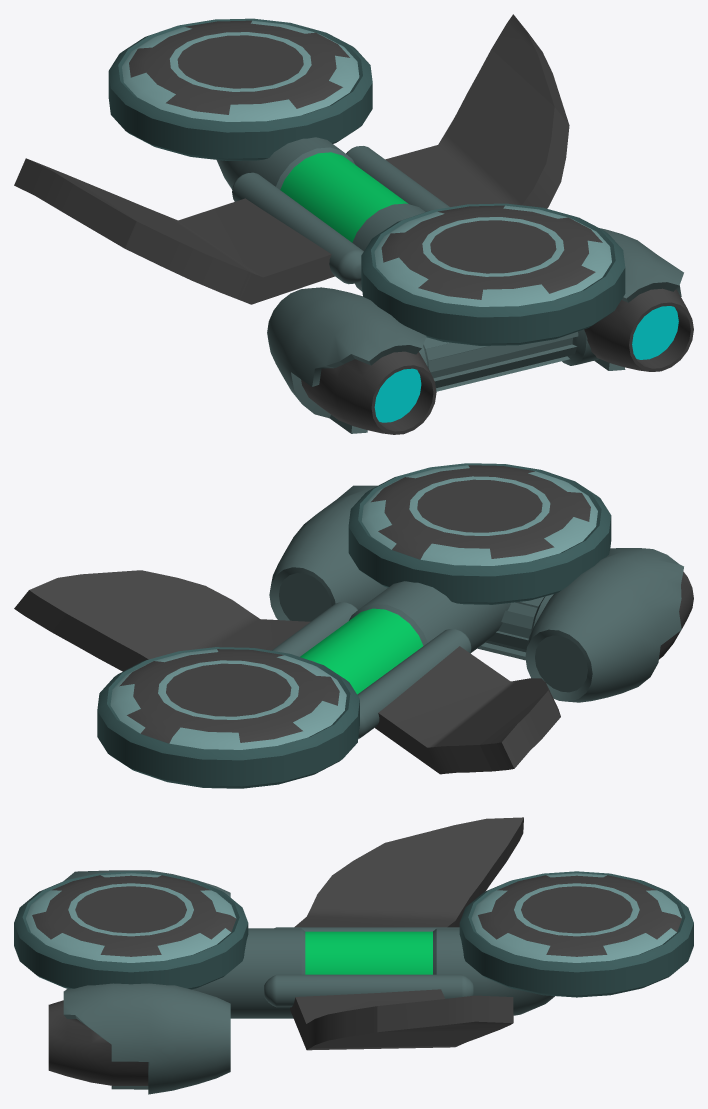
File: HoverWithUV.fbx
The picture shows the model from 3 angles, top to bottom: view 1: azimuth 30°, elevation 25°; view 2: azimuth 150°, elevation 25°; view 3: azimuth 270°, elevation 25°; orthographic projection. The views are drawn at different scales.
Parts seen in each view (by area): view 1: pasted__polySurface9, polySurface9, polySurface4, polySurface8, polySurface3, polySurface2, pasted__polySurface8, polySurface1, polySurface6, pasted__polySurface6; view 2: polySurface9, pasted__polySurface9, polySurface8, polySurface4, polySurface3, polySurface2, pasted__polySurface8, polySurface6, polySurface1, pasted__polySurface6; view 3: polySurface9, pasted__polySurface9, pasted__polySurface8, polySurface3, polySurface2, polySurface4, pasted__polySurface6, polySurface6, polySurface8.
Part boxes in pixels (x1,y1,x2,y2): pasted__polySurface9: (361,203,625,345); polySurface9: (108,18,372,160); polySurface4: (385,14,569,208); polySurface8: (267,287,436,434); polySurface3: (14,158,334,304); polySurface2: (216,137,425,291); pasted__polySurface8: (584,228,693,371); polySurface1: (419,329,598,391); polySurface6: (232,172,363,284); pasted__polySurface6: (346,146,449,211); polySurface9: (97,647,359,788); pasted__polySurface9: (348,463,611,604); polySurface8: (525,548,693,702); polySurface4: (14,570,310,671); polySurface3: (375,646,560,774); polySurface2: (300,581,510,694); pasted__polySurface8: (269,485,386,621); polySurface6: (357,629,471,738); polySurface1: (386,587,553,660); pasted__polySurface6: (272,602,357,656); polySurface9: (459,871,693,997); pasted__polySurface9: (14,871,248,989); pasted__polySurface8: (48,983,230,1094); polySurface3: (294,817,523,927); polySurface2: (192,928,554,1018); polySurface4: (290,989,513,1050); pasted__polySurface6: (264,974,473,1007); polySurface6: (274,927,459,931); polySurface8: (64,870,230,897).
Size of the model in its own units: 6.68 by 2.02 by 8.77.
